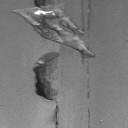slag inclusion: (8, 0, 98, 64), (34, 52, 60, 101), (55, 104, 59, 128), (87, 78, 90, 99), (87, 108, 91, 120)
